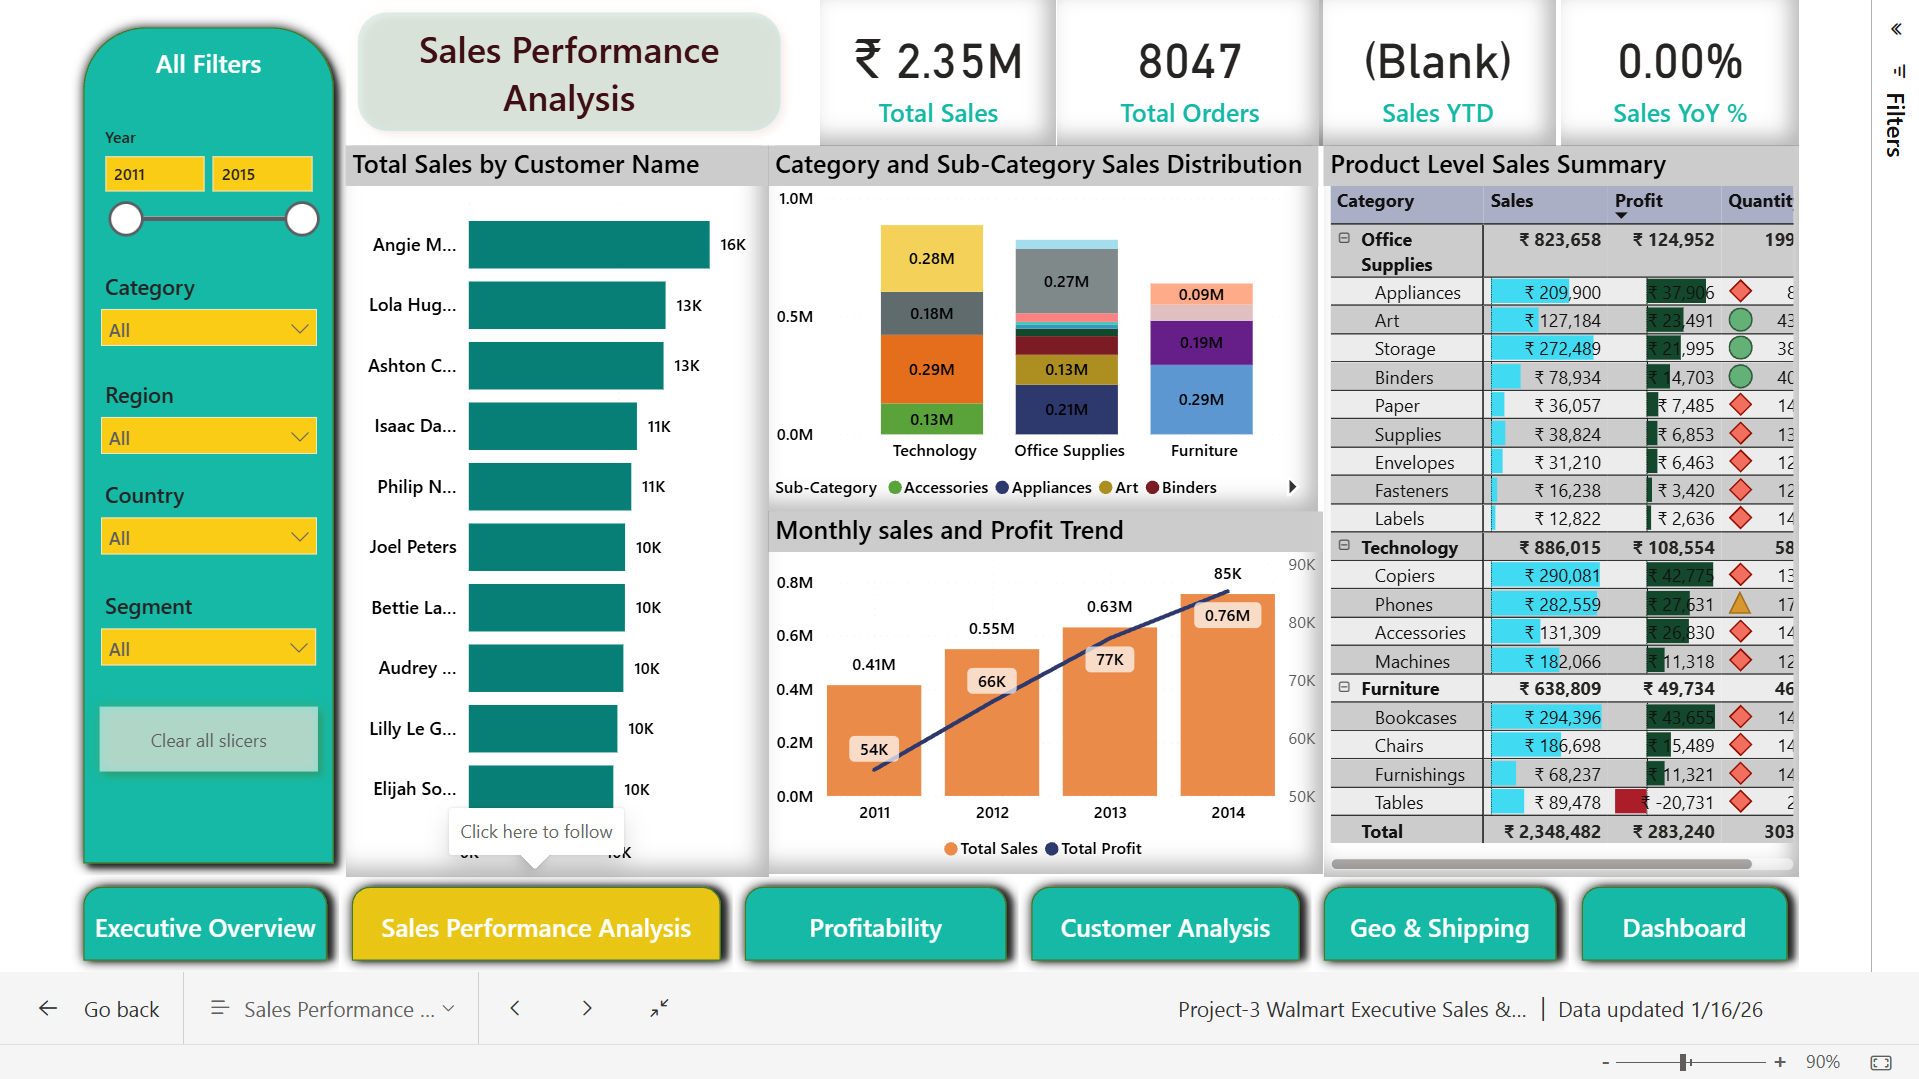

The page's visual inventory and layout, read from the dashboard file:
{"tool":"powerbi","page":{"name":"Sales Performance Analysis","canvas":[1280,720],"ordinal":1},"visuals":[{"type":"group","id":"g1","title":"Group 1","box":[0,11.6,203.7,639.4],"z":0,"group":"g2"},{"type":"shape","box":[0,11.6,203.8,637.5],"z":0,"group":"g1"},{"type":"shape","box":[0,647.7,198.8,72.9],"z":0},{"type":"slicer","fields":{"Values":["Dim_Date.Year"]},"box":[11.9,88.2,180,97.5],"z":1000,"group":"g1"},{"type":"slicer","fields":{"Values":["Dim_Customer.Segment"]},"box":[12.3,432.4,179.1,94.9],"z":1000,"group":"g2"},{"type":"shape","box":[198.8,647.7,291.5,72.9],"z":1000},{"type":"slicer","fields":{"Values":["Dim_Product.Category"]},"box":[12.3,195.5,179.7,89.5],"z":2000,"group":"g1"},{"type":"shape","box":[490.3,647.7,212,72.9],"z":2000},{"type":"slicer","fields":{"Values":["Dim_Customer.Region"]},"box":[12.3,276.5,179.7,85.2],"z":3000,"group":"g1"},{"type":"shape","box":[702.3,647.7,217,72.9],"z":3000},{"type":"slicer","fields":{"Values":["Dim_Customer.Country"]},"box":[12.3,351,179.7,87.3],"z":4000,"group":"g1"},{"type":"shape","box":[919.3,647.7,190.5,72.9],"z":4000},{"type":"actionButton","box":[12.3,515,179.7,66],"z":5000,"group":"g1"},{"type":"shape","box":[1109.8,647.7,170.6,72.9],"z":5000},{"type":"group","id":"g2","title":"Group 2","box":[0,11.6,203.7,639.4],"z":6000},{"type":"barChart","fields":{"Category":["Dim_Customer.Customer Name"],"Y":["Fact_Sales.Total Sales"]},"box":[203.7,107.7,313.1,541.7],"z":6001},{"type":"columnChart","title":"Category and Sub-Category Sales  Distribution","fields":{"Category":["Dim_Product.Category"],"Series":["Dim_Product.Sub-Category"],"Y":["Fact_Sales.Total Sales"]},"box":[516.8,107.7,407.5,271.7],"z":6002},{"type":"lineClusteredColumnComboChart","title":"Monthly sales and Profit Trend","fields":{"Category":["Dim_Date.Year"],"Y":["Fact_Sales.Total Sales"],"Y2":["Fact_Sales.Total Profit"]},"box":[516.8,379.3,410.8,268.3],"z":6003},{"type":"pivotTable","title":"Product Level Sales Summary","fields":{"Rows":["Fact_Sales.Category","Fact_Sales.Sub-Category"],"Values":["Sum(Fact_Sales.Sales)","Sum(Fact_Sales.Profit)","Sum(Fact_Sales.Quantity)"]},"box":[927.6,107.7,352.8,541.7],"z":6004},{"type":"card","fields":{"Values":["Fact_Sales.Total Sales"]},"box":[554.9,0,175.6,107.7],"z":6005},{"type":"card","fields":{"Values":["Fact_Sales.Total Orders"]},"box":[730.5,0,197.1,107.7],"z":6006},{"type":"card","fields":{"Values":["Fact_Sales.Sales YTD"]},"box":[924.3,0,175.6,107.7],"z":6007},{"type":"card","fields":{"Values":["Fact_Sales.Sales YoY %"]},"box":[1103.2,0,177.2,107.7],"z":6008},{"type":"shape","box":[203.7,0,331.3,106],"z":6009}]}

Visuals, with their boxes on the page's 1280x720 design canvas (x1, y1, x2, y2). These are canvas units, not pixel positions in the 1919x1079 screenshot, which may show the page scaled, cropped or inside an application window:
"Group 1" group: left=0, top=12, right=204, bottom=651
shape: left=0, top=12, right=204, bottom=649
shape: left=0, top=648, right=199, bottom=721
slicer - Dim_Date.Year: left=12, top=88, right=192, bottom=186
slicer - Dim_Customer.Segment: left=12, top=432, right=191, bottom=527
shape: left=199, top=648, right=490, bottom=721
slicer - Dim_Product.Category: left=12, top=196, right=192, bottom=285
shape: left=490, top=648, right=702, bottom=721
slicer - Dim_Customer.Region: left=12, top=276, right=192, bottom=362
shape: left=702, top=648, right=919, bottom=721
slicer - Dim_Customer.Country: left=12, top=351, right=192, bottom=438
shape: left=919, top=648, right=1110, bottom=721
actionButton: left=12, top=515, right=192, bottom=581
shape: left=1110, top=648, right=1280, bottom=721
"Group 2" group: left=0, top=12, right=204, bottom=651
barChart - Dim_Customer.Customer Name x Fact_Sales.Total Sales: left=204, top=108, right=517, bottom=649
"Category and Sub-Category Sales  Distribution" columnChart: left=517, top=108, right=924, bottom=379
"Monthly sales and Profit Trend" lineClusteredColumnComboChart: left=517, top=379, right=928, bottom=648
"Product Level Sales Summary" pivotTable: left=928, top=108, right=1280, bottom=649
card - Fact_Sales.Total Sales: left=555, top=0, right=730, bottom=108
card - Fact_Sales.Total Orders: left=730, top=0, right=928, bottom=108
card - Fact_Sales.Sales YTD: left=924, top=0, right=1100, bottom=108
card - Fact_Sales.Sales YoY %: left=1103, top=0, right=1280, bottom=108
shape: left=204, top=0, right=535, bottom=106
